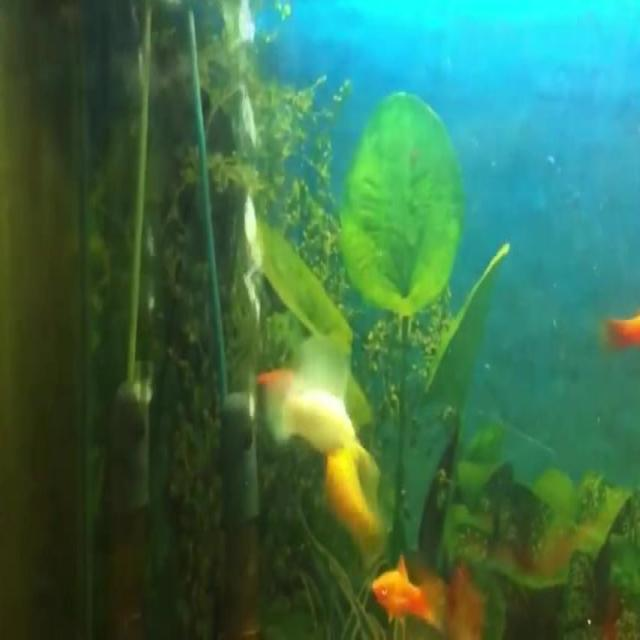PlatyFish: (361, 550, 454, 639)
